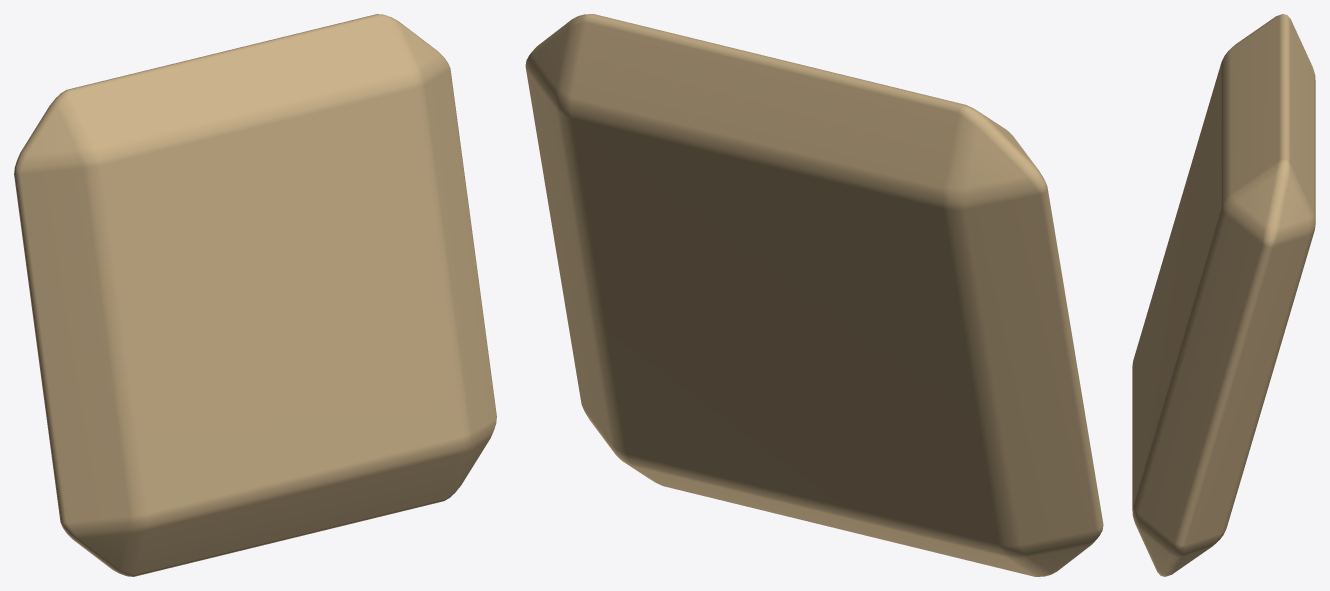
The model's file is pillow.glb.
The picture shows the model from 3 angles, left to right: view 1: azimuth 30°, elevation 25°; view 2: azimuth 150°, elevation 25°; view 3: azimuth 270°, elevation 25°; orthographic projection. The views are drawn at different scales.
Parts seen in each view (by area): view 1: pillow(Clone); view 2: pillow(Clone); view 3: pillow(Clone).
Boxes of the visible parts, x1,y1,x2,y2 form: pillow(Clone): (14,14,496,576); pillow(Clone): (525,14,1103,576); pillow(Clone): (1132,14,1315,576).
Size of the model in its own units: 0.2253 by 0.2181 by 0.0868.
